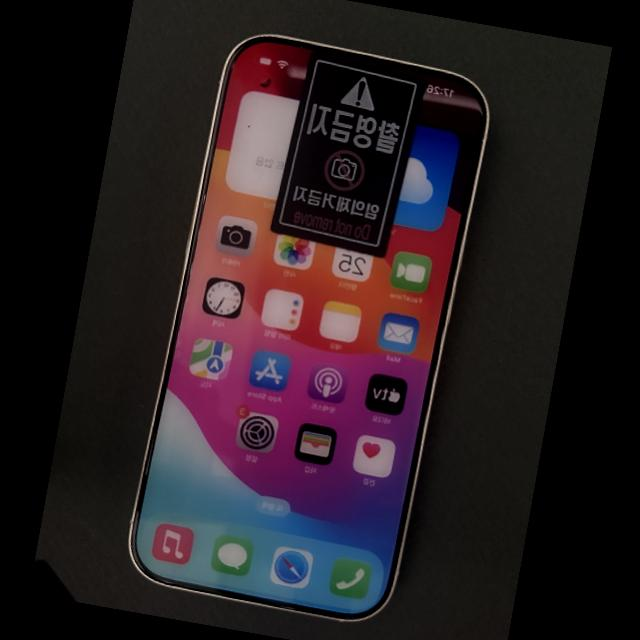phone: (129, 36, 487, 619)
sticker: (270, 49, 427, 257)
